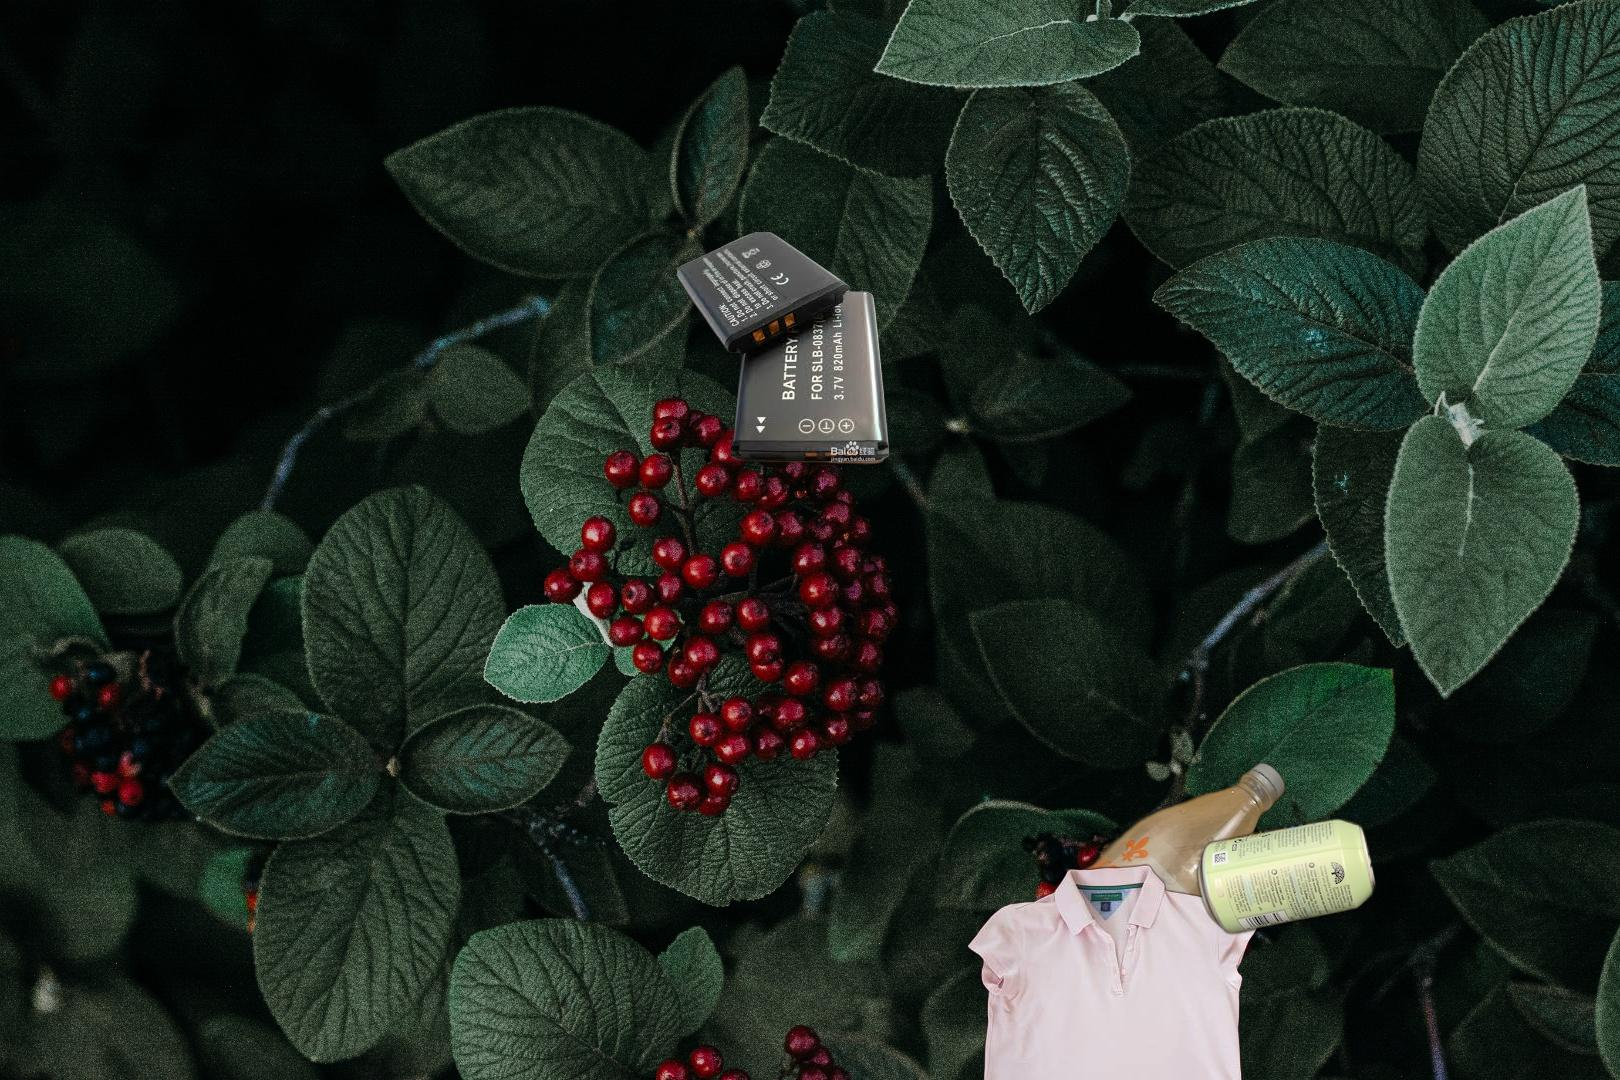battery: (677, 231, 890, 468)
clothes: (945, 859, 1295, 1080)
metal-cans: (1192, 812, 1597, 1005)
plastic-bottles: (1069, 757, 1289, 1060)
